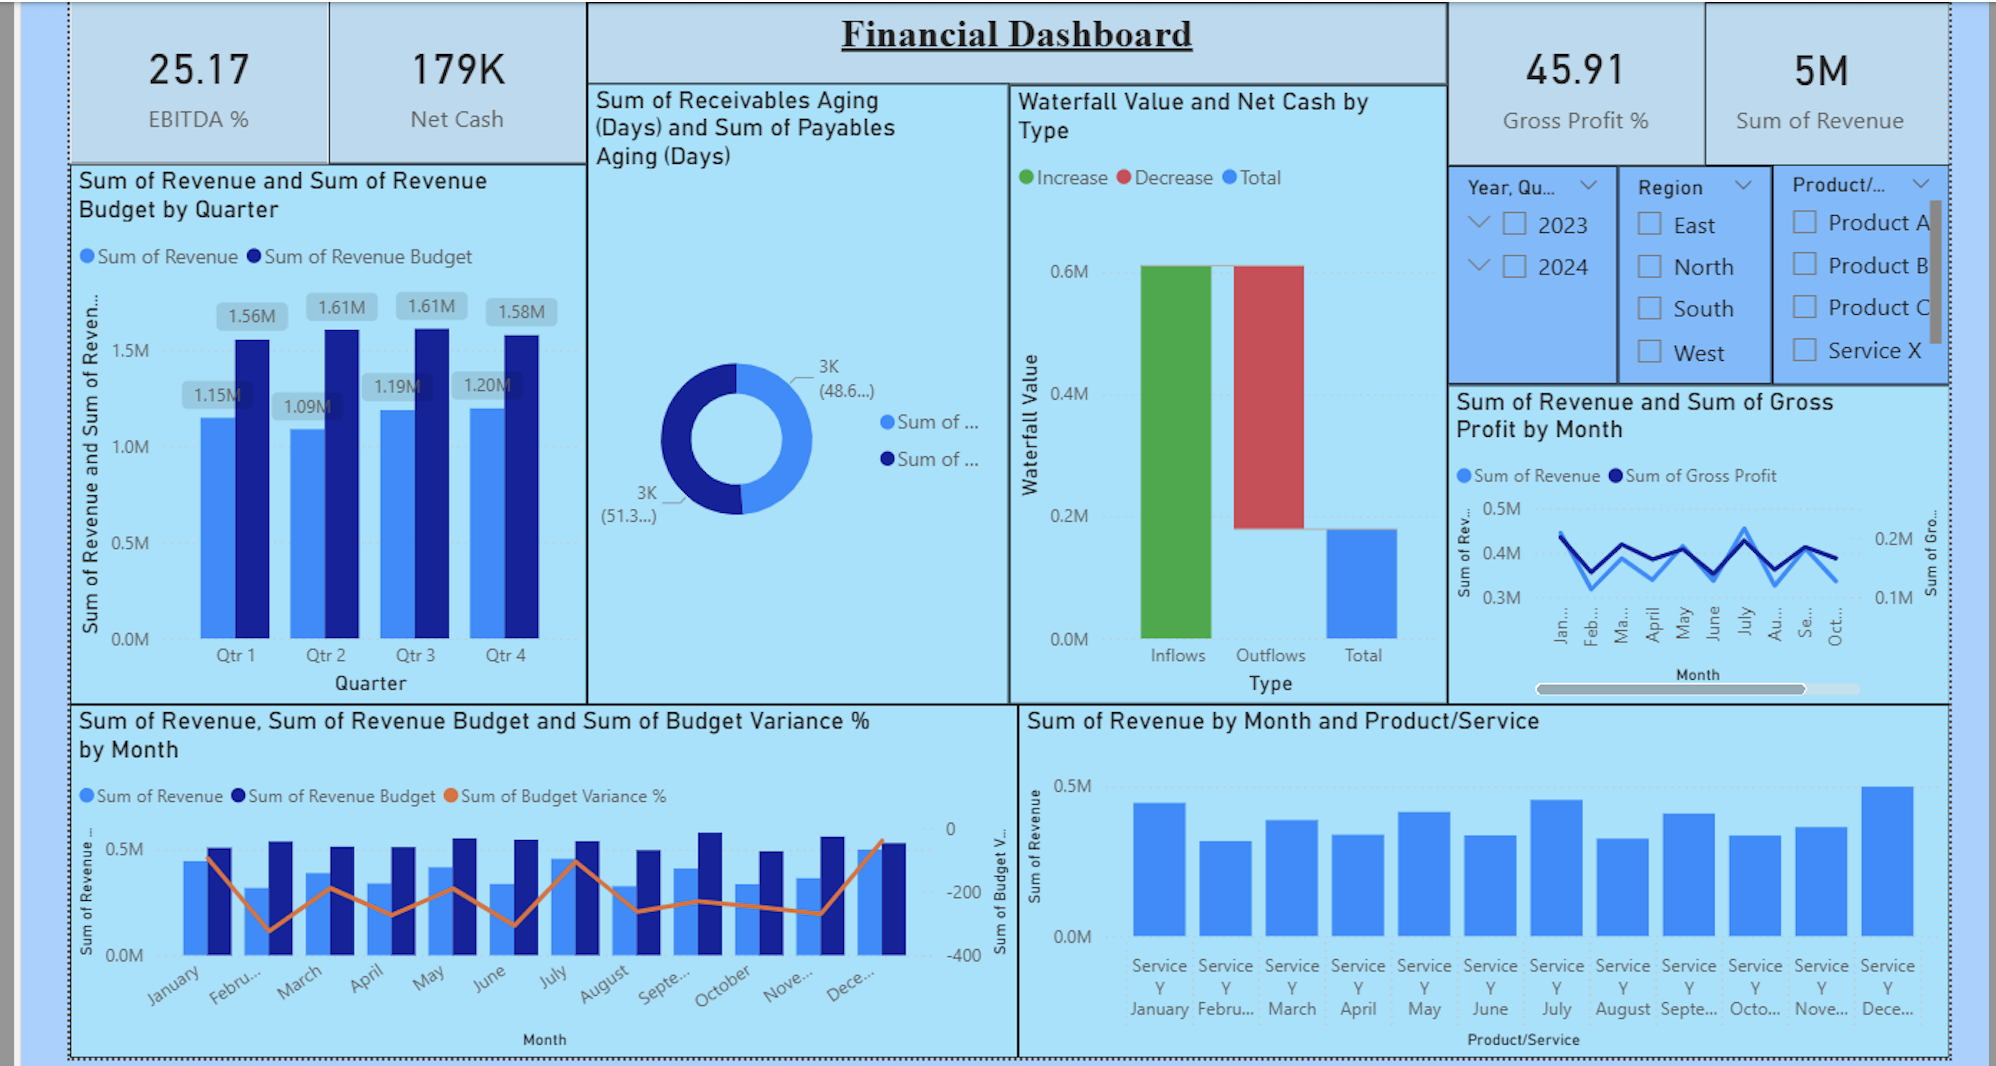

The page's visual inventory and layout, read from the dashboard file:
{"tool":"powerbi","page":{"name":"Page 1","canvas":[1280,720],"ordinal":0},"visuals":[{"type":"slicer","fields":{"Values":["Table1.Region"]},"box":[1054.1,112.5,105.2,149.2],"z":1},{"type":"slicer","fields":{"Values":["Table1.Product/Service"]},"box":[1159.2,111.3,121.1,150.4],"z":2},{"type":"card","fields":{"Values":["Sum(Table1.Revenue)"]},"box":[1104.2,1.2,176.1,111.3],"z":4},{"type":"card","fields":{"Values":["Table1.Gross Profit %"]},"box":[937.9,0,176.1,112.5],"z":5},{"type":"card","fields":{"Values":["Table1.EBITDA %"]},"box":[0,0,176.1,111.3],"z":6},{"type":"card","fields":{"Values":["Table1.Net Cash"]},"box":[176.1,0,176.1,111.3],"z":7},{"type":"lineChart","fields":{"Category":["Table1.Month.Variation.Date Hierarchy.Month"],"Y":["Sum(Table1.Revenue)"],"Y2":["Sum(Table1.Gross Profit)"]},"box":[937.9,261.7,342.4,217.7],"z":8},{"type":"clusteredColumnChart","fields":{"Category":["Table1.Month.Variation.Date Hierarchy.Quarter"],"Y":["Sum(Table1.Revenue)","Sum(Table1.Revenue Budget)"]},"box":[0,111.3,352.2,368.1],"z":9},{"type":"clusteredColumnChart","fields":{"Category":["Table1.Month.Variation.Date Hierarchy.Month","Table1.Product/Service"],"Y":["Sum(Table1.Revenue)"]},"box":[645.7,479.4,634.7,240.9],"z":10},{"type":"textbox","box":[352.2,1.2,585.7,56.3],"z":11},{"type":"slicer","fields":{"Values":["Table1.Month.Variation.Date Hierarchy.Year","Table1.Month.Variation.Date Hierarchy.Quarter","Table1.Month.Variation.Date Hierarchy.Month","Table1.Month.Variation.Date Hierarchy.Day"]},"box":[937.9,112.5,116.2,149.2],"z":12},{"type":"waterfallChart","fields":{"Category":["Cash Type.Type"],"Y":["Cash Type.Waterfall Value"]},"box":[639.5,57.5,298.4,421.9],"z":13},{"type":"lineClusteredColumnComboChart","fields":{"Y":["Sum(Table1.Revenue)","Sum(Table1.Revenue Budget)"],"Category":["Table1.Month.Variation.Date Hierarchy.Month"],"Y2":["Sum(Table1.Budget Variance %)"]},"box":[0,479.4,645.7,240.9],"z":14},{"type":"donutChart","fields":{"Y":["Sum(Table1.Receivables Aging (Days))","Sum(Table1.Payables Aging (Days))"]},"box":[352.2,56.3,287.4,423.1],"z":15}]}

Visuals, with their boxes in screenshot pixels (x1, y1, x2, y2):
slicer - Table1.Region: l=1611, t=164, r=1765, b=382
slicer - Table1.Product/Service: l=1765, t=162, r=1941, b=382
card - Sum(Table1.Revenue): l=1684, t=2, r=1941, b=164
card - Table1.Gross Profit %: l=1442, t=0, r=1699, b=164
card - Table1.EBITDA %: l=73, t=0, r=330, b=162
card - Table1.Net Cash: l=330, t=0, r=587, b=162
lineChart - Table1.Month.Variation.Date Hierarchy.Month x Sum(Table1.Revenue): l=1442, t=382, r=1941, b=700
clusteredColumnChart - Table1.Month.Variation.Date Hierarchy.Quarter x Sum(Table1.Revenue): l=73, t=162, r=587, b=700
clusteredColumnChart - Table1.Month.Variation.Date Hierarchy.Month x Table1.Product/Service: l=1015, t=700, r=1942, b=1051
textbox: l=587, t=2, r=1442, b=84
slicer - Table1.Month.Variation.Date Hierarchy.Year x Table1.Month.Variation.Date Hierarchy.Quarter: l=1442, t=164, r=1611, b=382
waterfallChart - Cash Type.Type x Cash Type.Waterfall Value: l=1006, t=84, r=1442, b=700
lineClusteredColumnComboChart - Sum(Table1.Revenue) x Sum(Table1.Revenue Budget): l=73, t=700, r=1015, b=1051
donutChart - Sum(Table1.Receivables Aging (Days)) x Sum(Table1.Payables Aging (Days)): l=587, t=82, r=1006, b=700
